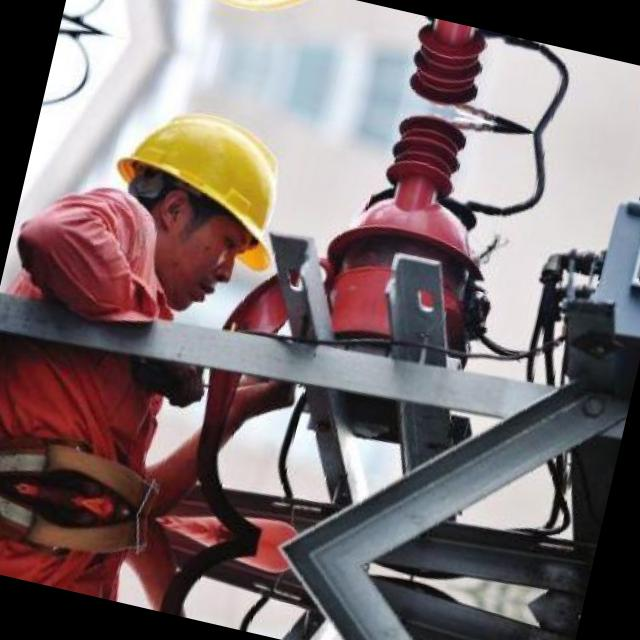helmet: (79, 76, 324, 324), (142, 0, 352, 50)
